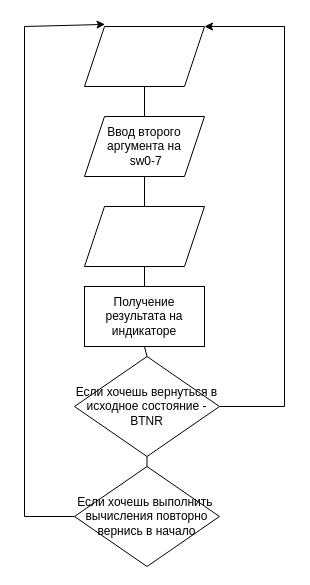
Image size: 310x585. Some labels were removed from this diagram. Here are the shapes that lost their labels. From the top down, the centre of each, then its label:
At point 144,56: "Ввод первого аргумента на sw8-15".
At point 144,236: "Нажатие кнопки btnc".
